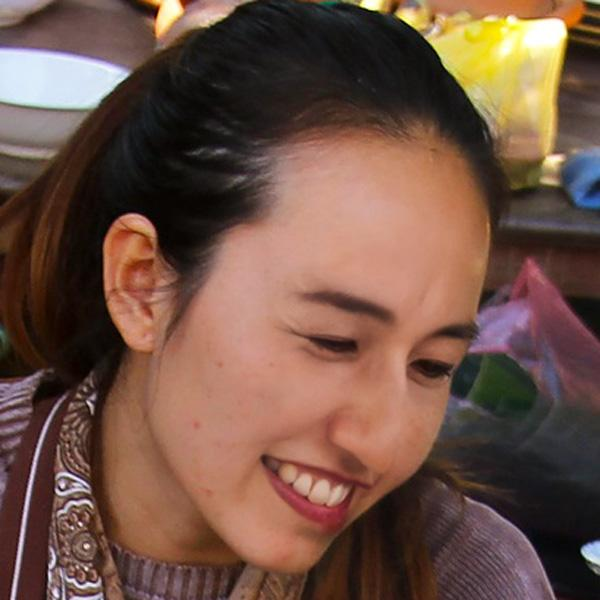Eyes: (281, 297, 369, 362), (405, 339, 464, 394)
